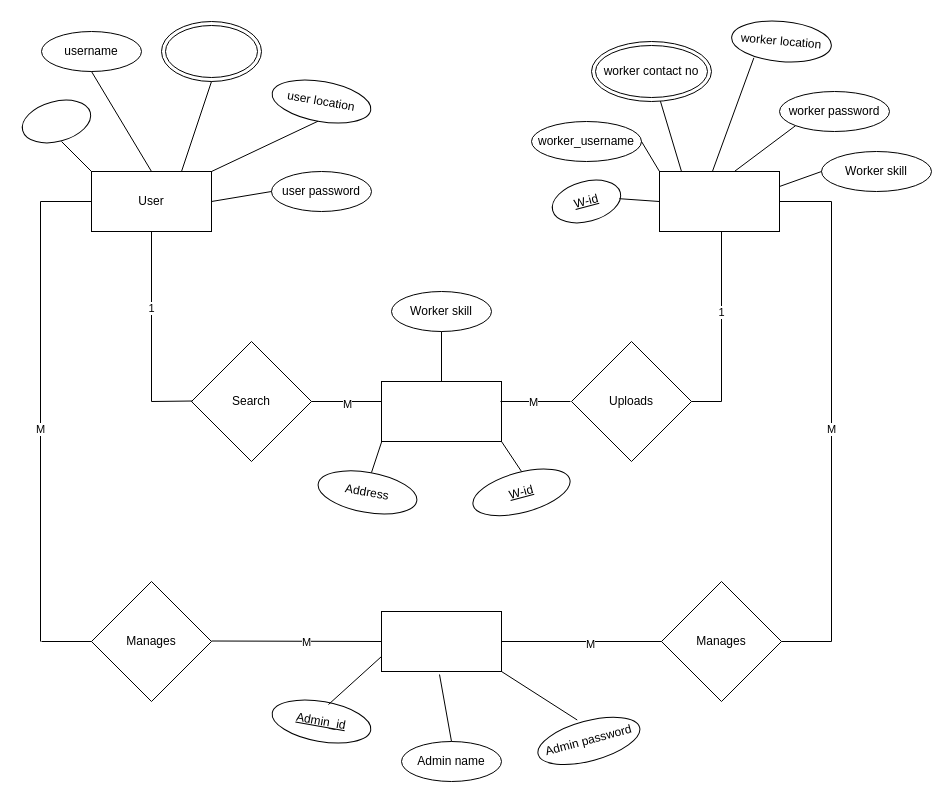
Some shapes in this 950 by 800 pixel diagram are drawn without their labels. Each missing label, with the centre of its shape:
Admin: point (441, 641)
Category: point (441, 411)
U-id: point (56, 121)
user contact no: point (211, 51)
Worker: point (719, 201)
